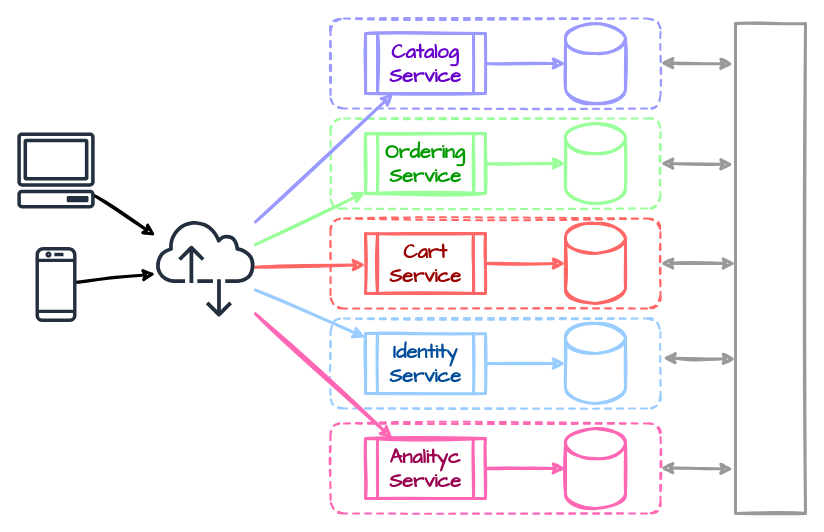
Some shapes in this 824 by 532 pixel diagram are drawn without their labels. The shapes that lost their labels are listed below. From the top down, each one's box as (x1, y1, x2, y2) in pixels, then its label:
(155, 218, 255, 318): API Gateway
(734, 22, 806, 514): Message broker (Kafka, RabibtMQ, ActiveMQ)
